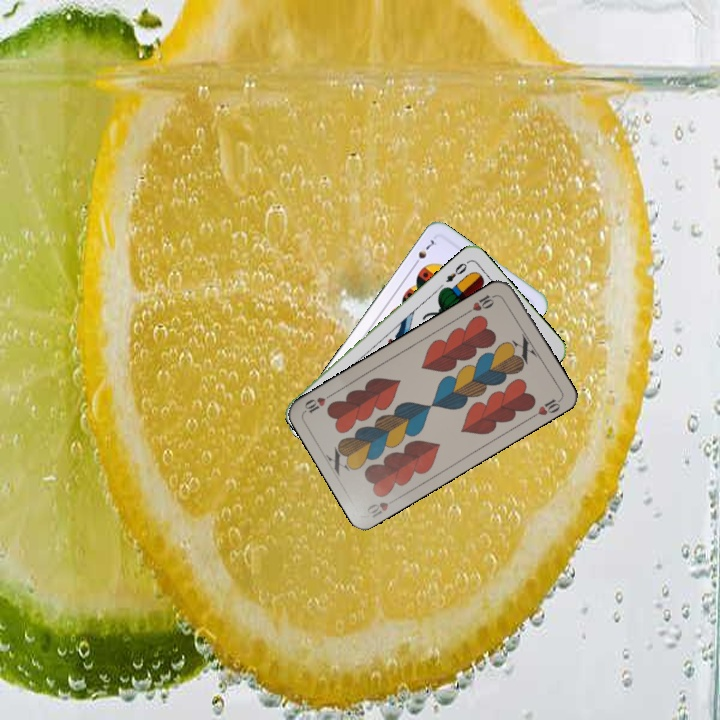EO: (442, 257, 471, 285)
H10: (363, 493, 401, 521), (463, 290, 500, 316)
S7: (409, 235, 440, 269)
